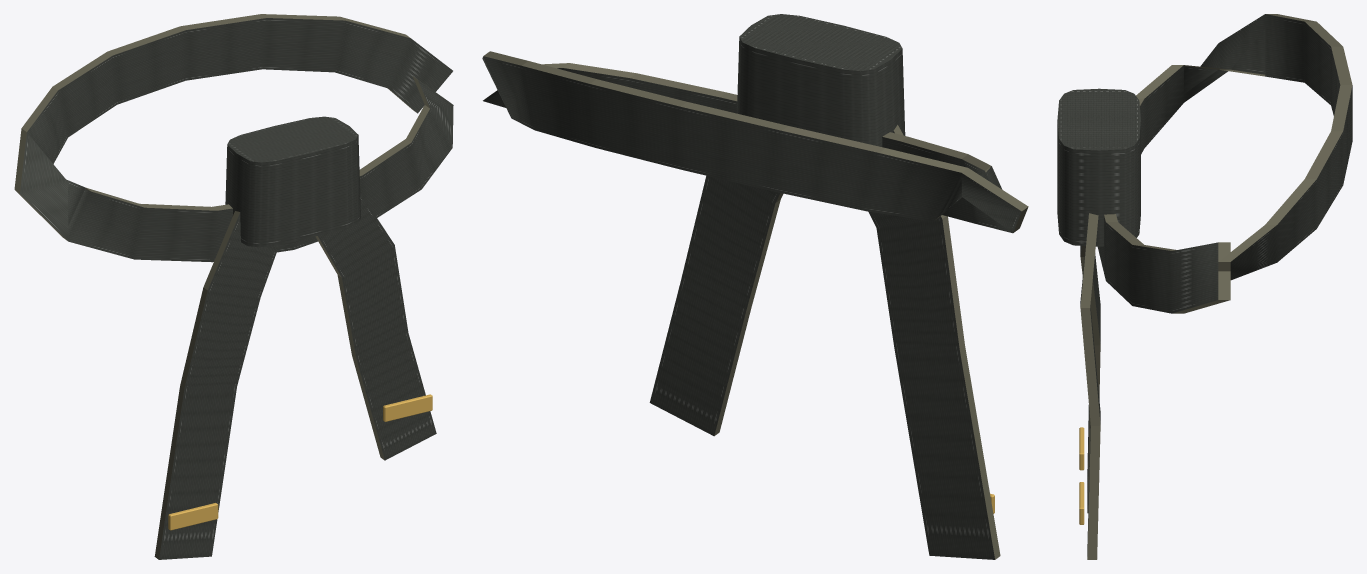
Rendered from black_belt.obj.
3 views of the same model, side by side, from view 1: azimuth 30°, elevation 25°; view 2: azimuth 150°, elevation 25°; view 3: azimuth 270°, elevation 25° (orthographic). The views are drawn at different scales.
Parts seen in each view (by area): view 1: A_WaistBand.001_black_belt_cotton, B_HangingEnd-1.001_black_belt_cotton, D_TiedKnot.001_black_belt_cotton, B_HangingEnd1.001_black_belt_cotton, A_WaistBand.001_black_belt_cut_edges, B_HangingEnd-1.001_black_belt_cut_edges, B_HangingEnd1.001_black_belt_cut_edges, C_EmbroideredRank-1.001_black_belt_embroidered_bar, C_EmbroideredRank1.001_black_belt_embroidered_bar; view 2: A_WaistBand.001_black_belt_cotton, B_HangingEnd-1.001_black_belt_cotton, D_TiedKnot.001_black_belt_cotton, B_HangingEnd1.001_black_belt_cotton, A_WaistBand.001_black_belt_cut_edges, B_HangingEnd-1.001_black_belt_cut_edges, B_HangingEnd1.001_black_belt_cut_edges; view 3: A_WaistBand.001_black_belt_cotton, D_TiedKnot.001_black_belt_cotton, A_WaistBand.001_black_belt_cut_edges, B_HangingEnd1.001_black_belt_cut_edges, B_HangingEnd-1.001_black_belt_cut_edges, B_HangingEnd-1.001_black_belt_cotton, B_HangingEnd1.001_black_belt_cotton.
Boxes of the visible parts, left/top/right/bottom form: A_WaistBand.001_black_belt_cotton: left=20, top=18, right=453, bottom=262; B_HangingEnd-1.001_black_belt_cotton: left=159, top=212, right=279, bottom=559; D_TiedKnot.001_black_belt_cotton: left=225, top=116, right=360, bottom=247; B_HangingEnd1.001_black_belt_cotton: left=318, top=193, right=436, bottom=460; A_WaistBand.001_black_belt_cut_edges: left=14, top=14, right=445, bottom=240; B_HangingEnd-1.001_black_belt_cut_edges: left=154, top=211, right=239, bottom=559; B_HangingEnd1.001_black_belt_cut_edges: left=315, top=236, right=384, bottom=460; C_EmbroideredRank-1.001_black_belt_embroidered_bar: left=168, top=503, right=218, bottom=530; C_EmbroideredRank1.001_black_belt_embroidered_bar: left=383, top=394, right=432, bottom=421; A_WaistBand.001_black_belt_cotton: left=482, top=56, right=1021, bottom=233; B_HangingEnd-1.001_black_belt_cotton: left=868, top=131, right=994, bottom=559; D_TiedKnot.001_black_belt_cotton: left=737, top=14, right=905, bottom=146; B_HangingEnd1.001_black_belt_cotton: left=649, top=175, right=780, bottom=435; A_WaistBand.001_black_belt_cut_edges: left=483, top=51, right=1028, bottom=232; B_HangingEnd-1.001_black_belt_cut_edges: left=893, top=125, right=1000, bottom=559; B_HangingEnd1.001_black_belt_cut_edges: left=714, top=193, right=783, bottom=435; A_WaistBand.001_black_belt_cotton: left=1097, top=14, right=1352, bottom=313; D_TiedKnot.001_black_belt_cotton: left=1057, top=88, right=1140, bottom=246; A_WaistBand.001_black_belt_cut_edges: left=1104, top=14, right=1352, bottom=313; B_HangingEnd1.001_black_belt_cut_edges: left=1080, top=213, right=1100, bottom=559; B_HangingEnd-1.001_black_belt_cut_edges: left=1080, top=246, right=1100, bottom=513; B_HangingEnd-1.001_black_belt_cotton: left=1080, top=245, right=1100, bottom=508; B_HangingEnd1.001_black_belt_cotton: left=1080, top=229, right=1100, bottom=556.
Bounding box in the file's own units: 1.62 × 1.51 × 0.8475.
